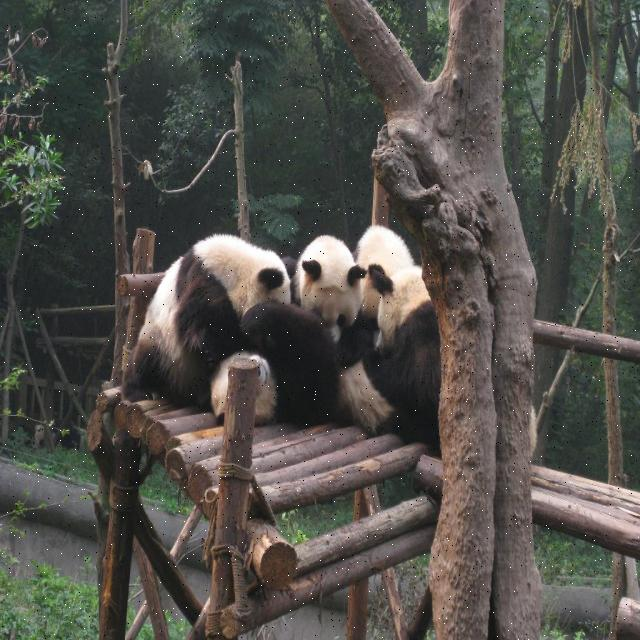panda: (203, 221, 445, 465), (117, 228, 293, 408)
